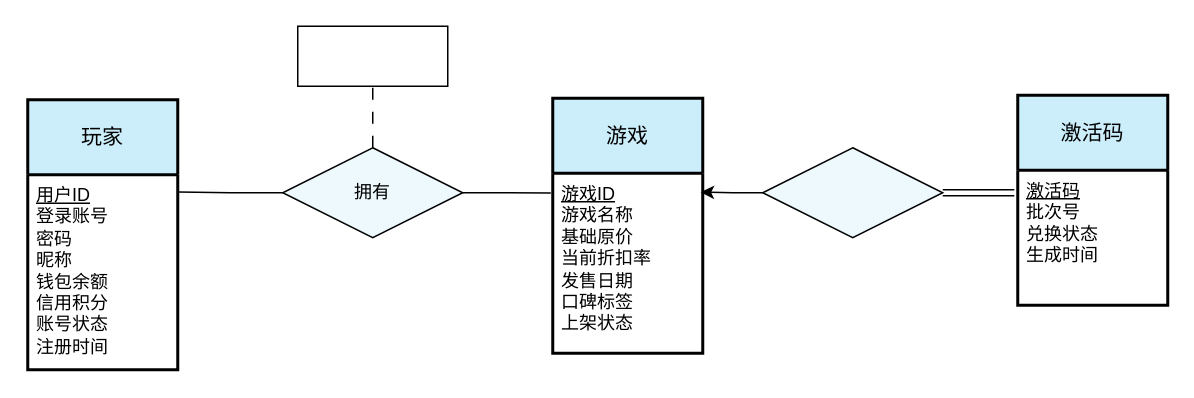
This 1194x398 diagram has some shape labels left out. Each missing label, with the box of its shape:
生成: (761, 146, 943, 238)
获取途径 累计游玩时长: (296, 25, 448, 86)
